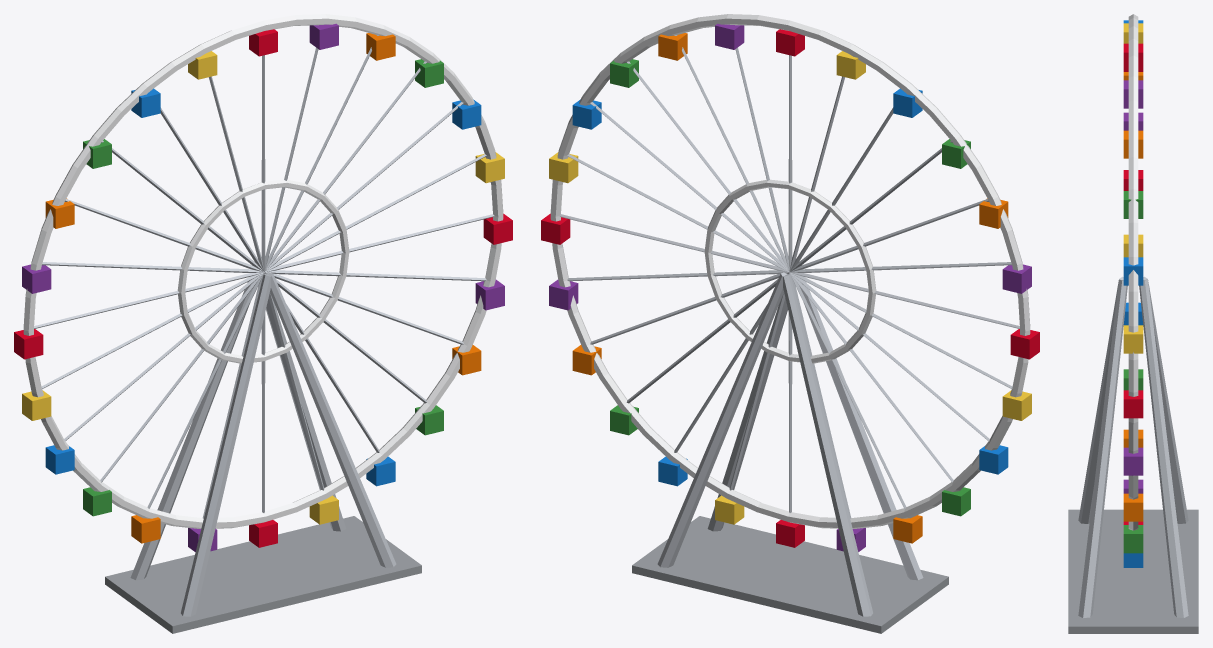
The model's file is noria.glb.
3 views of the same model, side by side, from view 1: azimuth 30°, elevation 25°; view 2: azimuth 150°, elevation 25°; view 3: azimuth 270°, elevation 25° (orthographic). The views are drawn at different scales.
Parts seen in each view (by area): view 1: noria; view 2: noria; view 3: noria.
Boxes of the visible parts, x1,y1,x2,y2 form: noria: (14, 14, 512, 633); noria: (541, 14, 1039, 633); noria: (1068, 14, 1198, 633).
Size of the model in its own units: 66.6 by 73.01 by 16.
